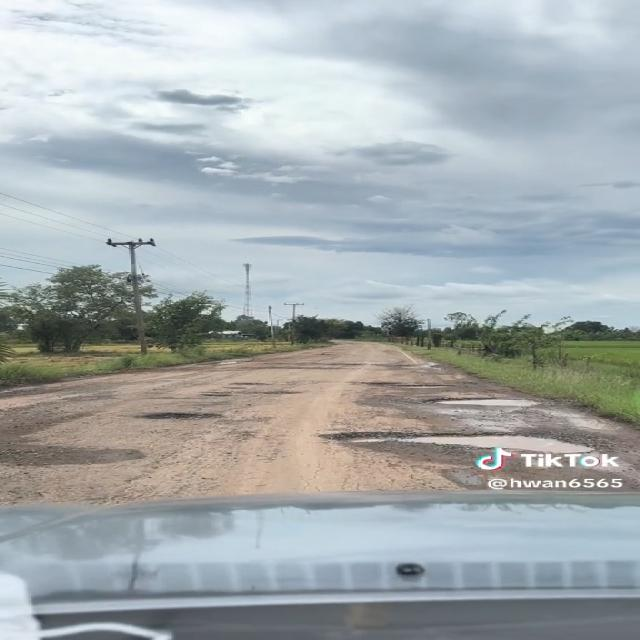Poth-hole: (128, 438, 194, 494)
